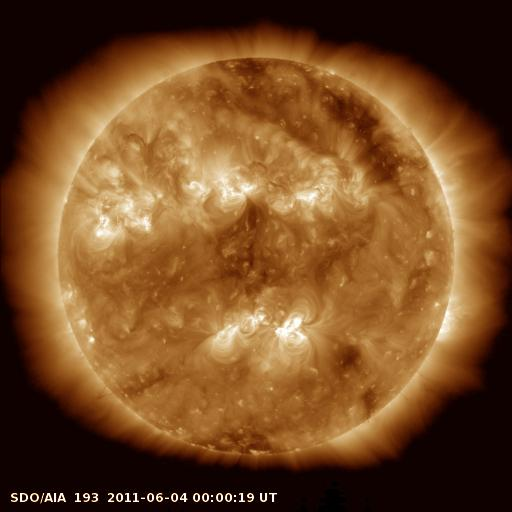coronal_hole: (305, 66, 405, 183), (210, 53, 303, 108), (182, 424, 287, 465)
